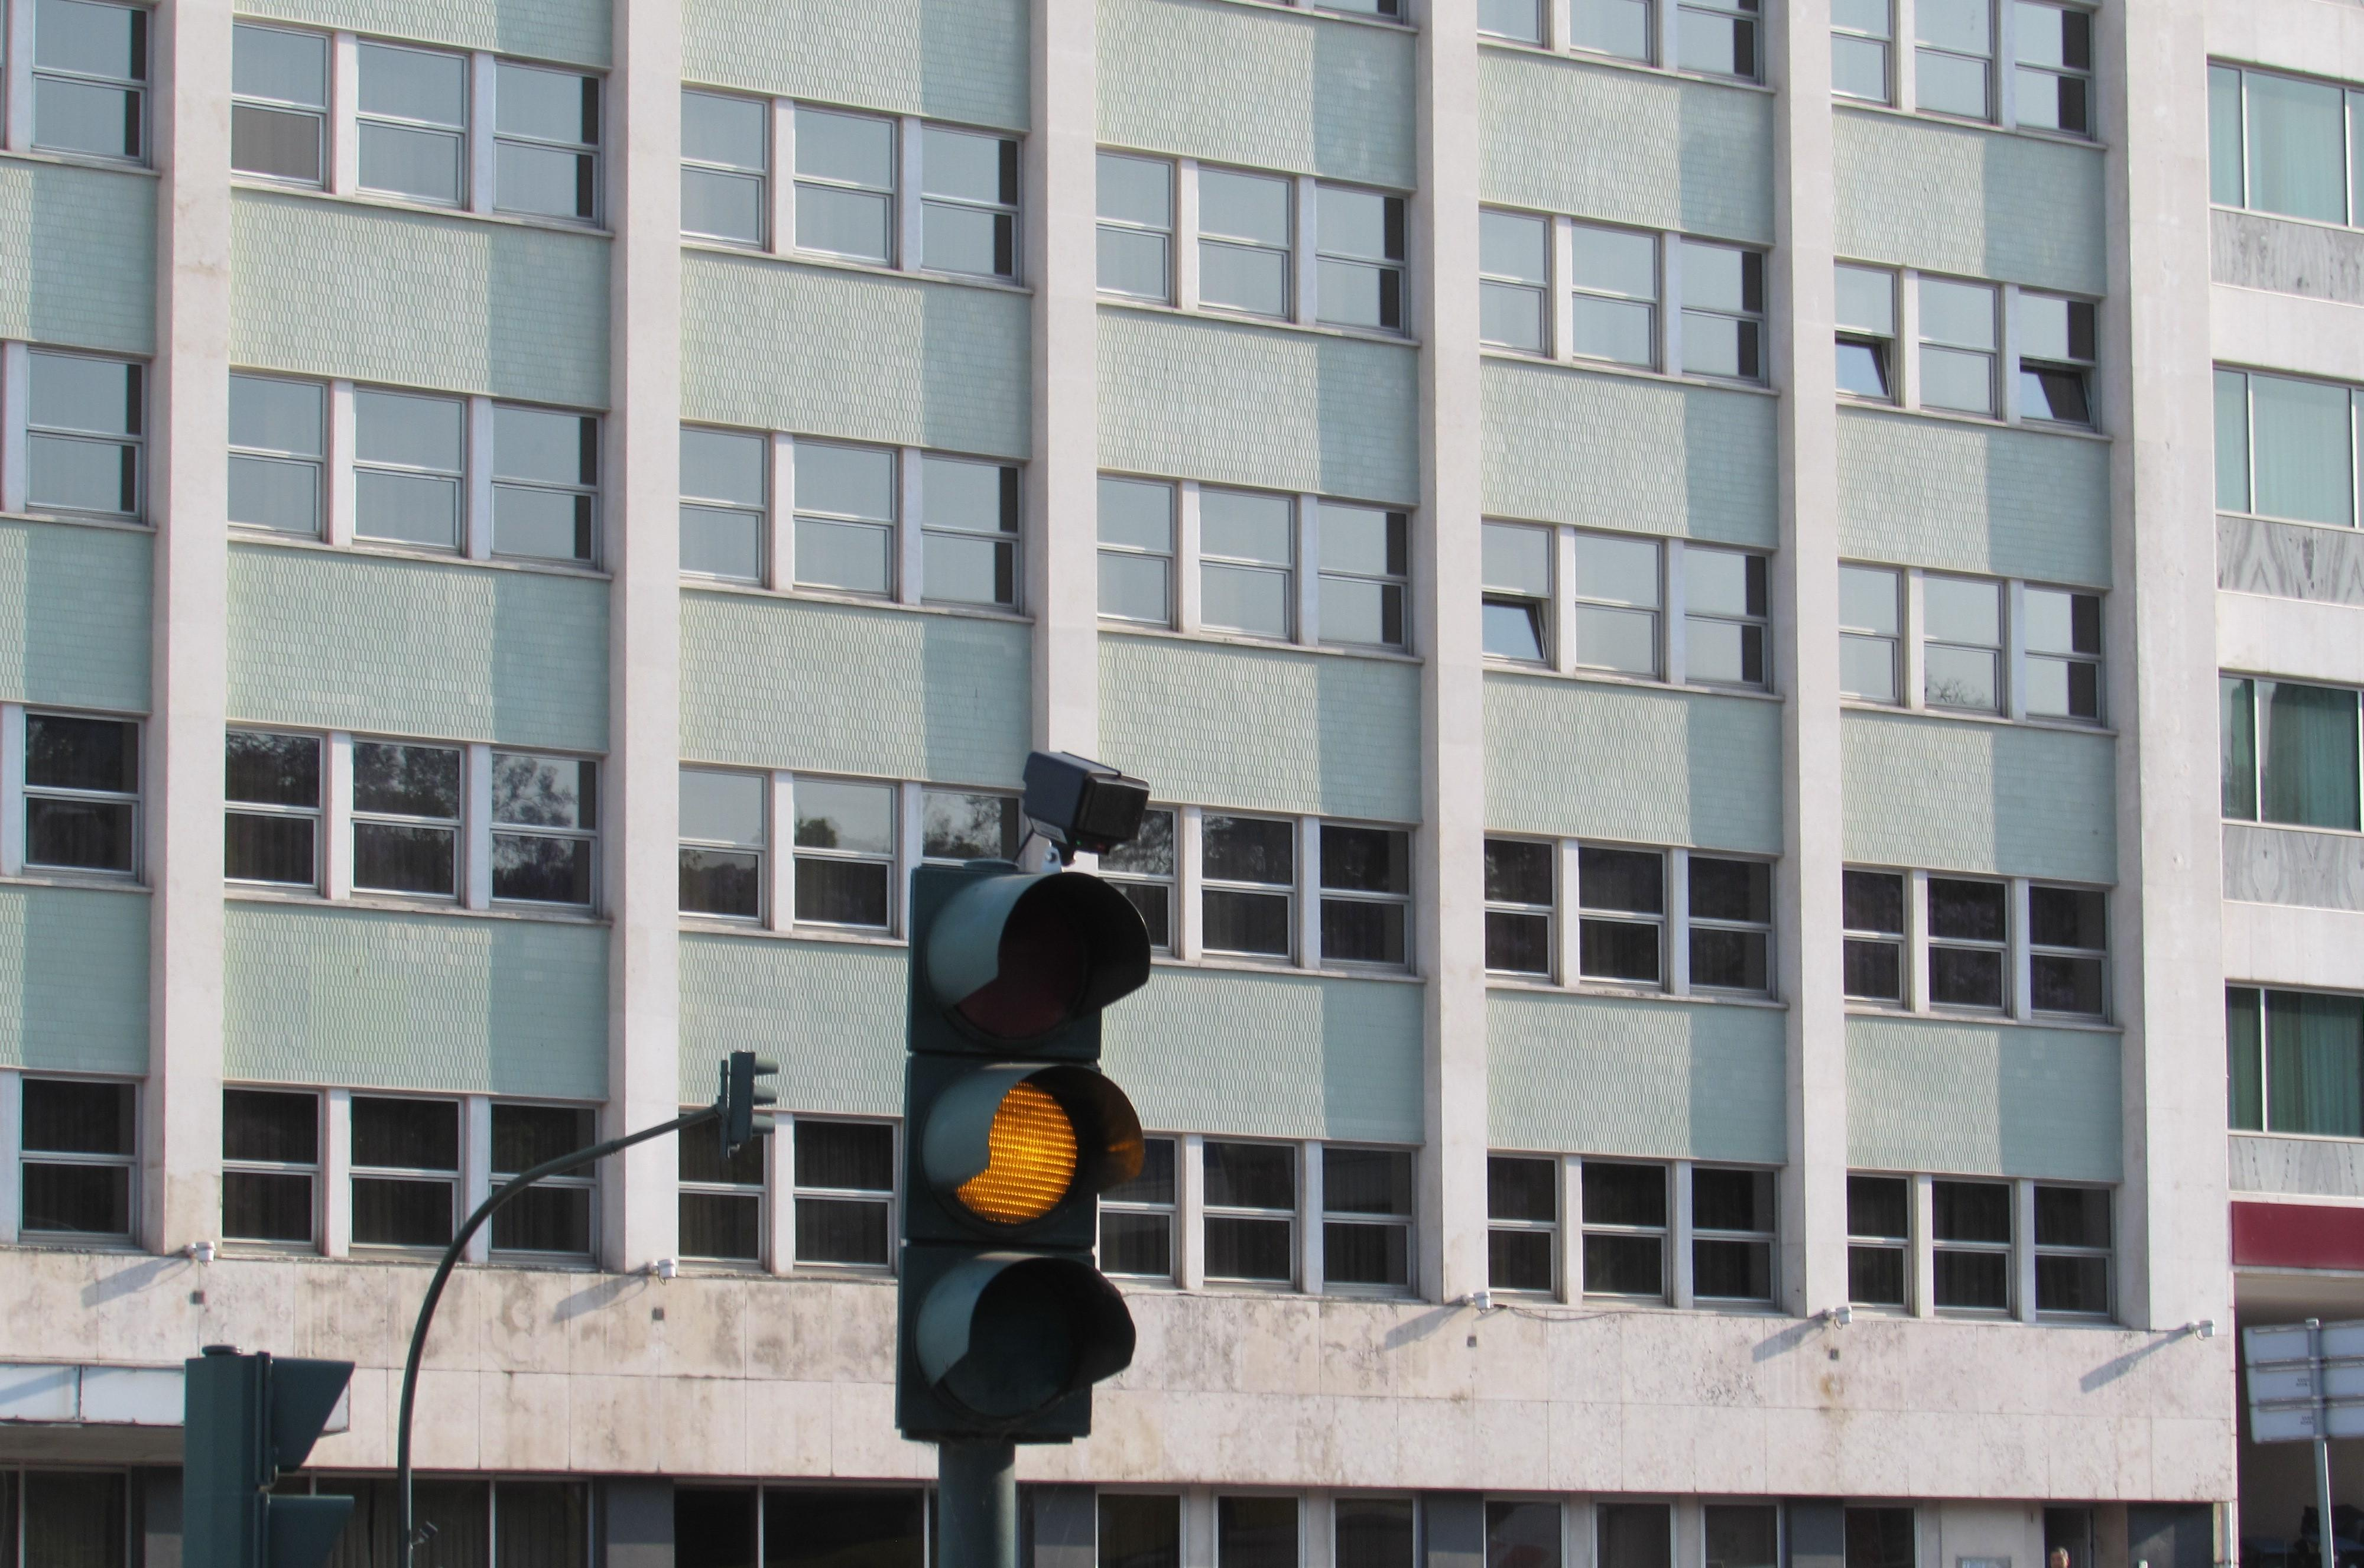yellow_light: (896, 866, 1153, 1442)
